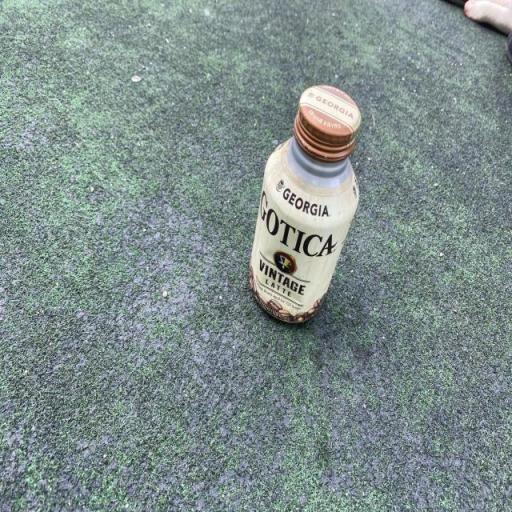metal: (215, 57, 397, 354)
